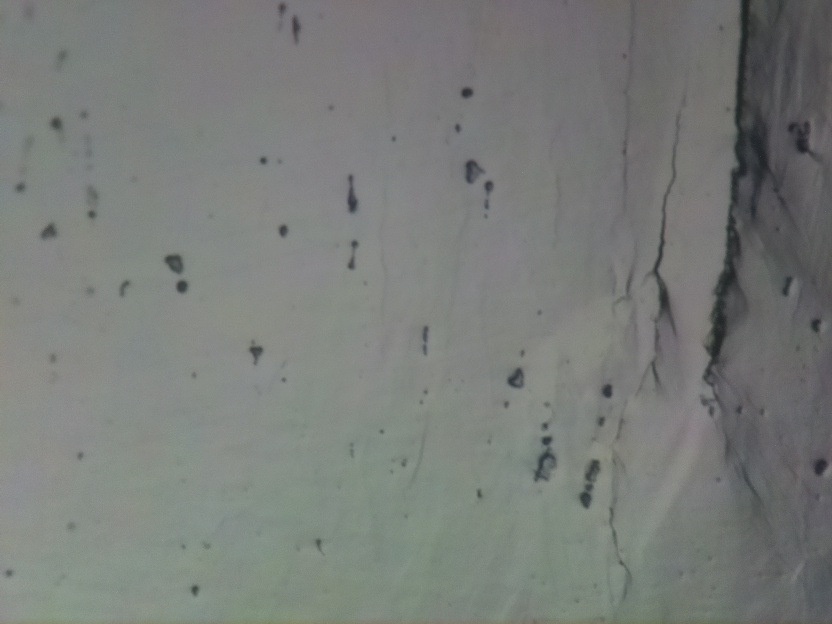crack: (704, 0, 754, 385), (634, 62, 689, 391)
